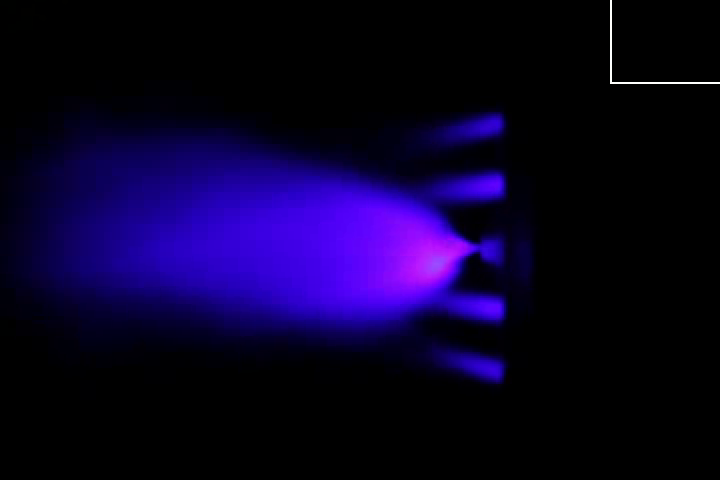burner cap: (483, 238, 501, 266)
pilot flame: (427, 283, 511, 329), (402, 111, 504, 148), (427, 343, 505, 388), (412, 172, 507, 204)
stable: (371, 209, 479, 295)
